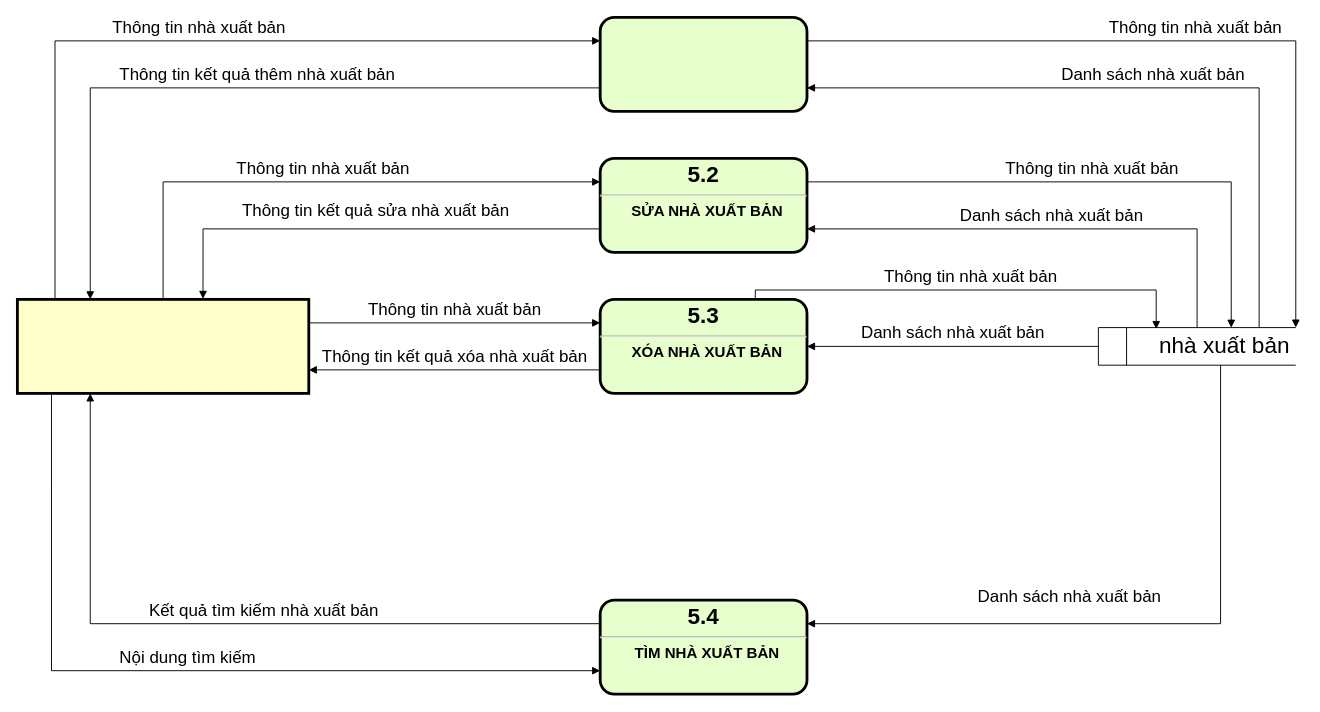
Image size: 1320x712. Some labels were removed from this diagram. Each missing label, with the centre of its shape:
5.1 THÊM NHÀ XUẤT BẢN: (703,64)
QUẢN LÝ CỬA HÀNG: (163,346)
